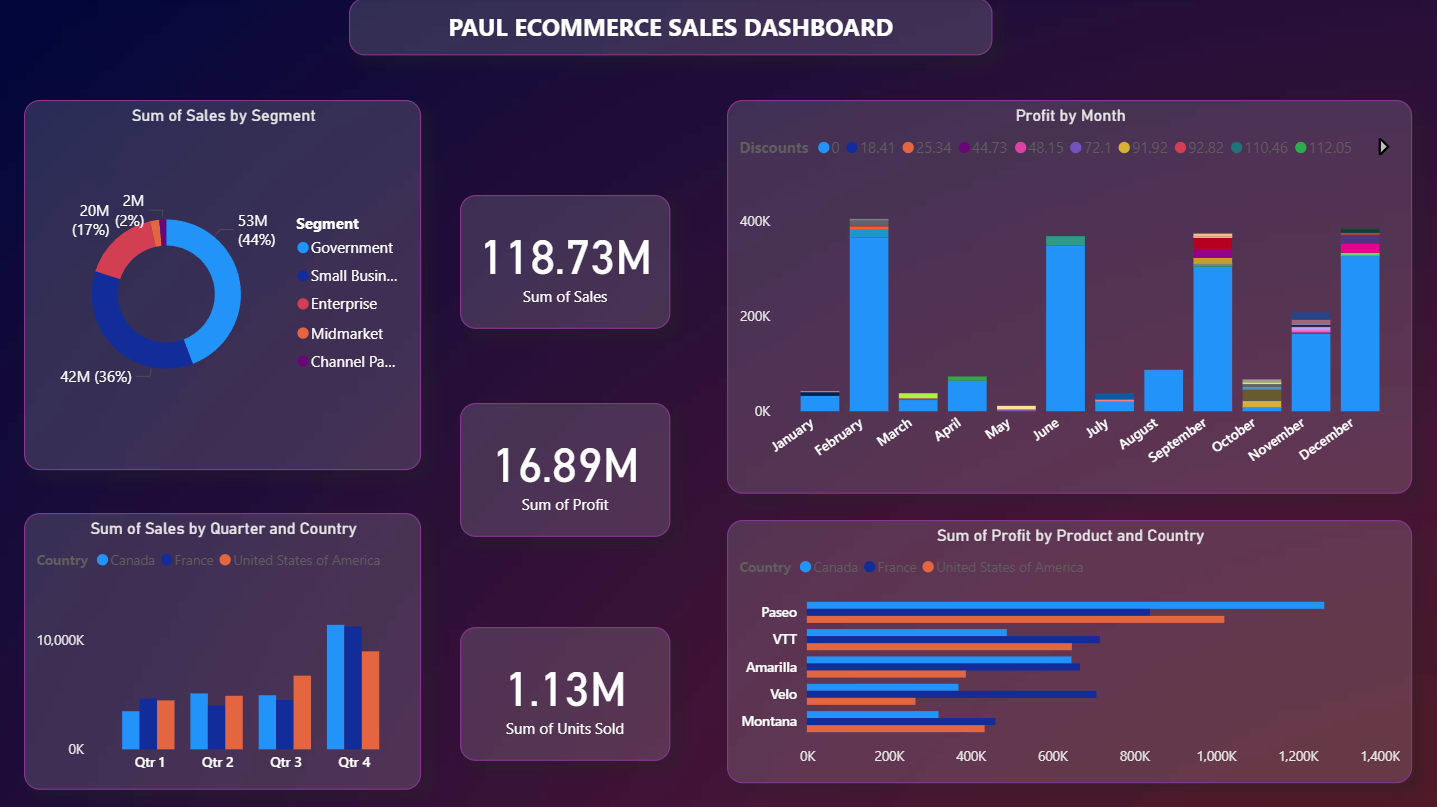

Layout of this report page (visuals, bound fields, positions):
{"tool":"powerbi","page":{"name":"Page 1","canvas":[1280,720],"ordinal":0},"visuals":[{"type":"textbox","box":[311,0,572,51],"z":0},{"type":"columnChart","title":"Profit by Month","fields":{"Category":["financials.Date.Variation.Date Hierarchy.Month"],"Y":["financials.Profit"],"Series":["financials.Discounts"]},"box":[647,91,609,350],"z":1000},{"type":"clusteredBarChart","fields":{"Category":["financials.Product"],"Y":["financials.Profit","select"],"Series":["financials.Country"]},"box":[647,464,609,234],"z":2000},{"type":"donutChart","fields":{"Category":["financials.Segment"],"Y":["financials.Sales"]},"box":[22,91,353,329],"z":3000},{"type":"clusteredColumnChart","fields":{"Category":["financials.Date.Variation.Date Hierarchy.Quarter"],"Y":["financials.Sales"],"Series":["financials.Country"]},"box":[22.4,458.1,353.1,246.1],"z":4000},{"type":"card","fields":{"Values":["financials.Sales"]},"box":[410,175,187,119],"z":5000},{"type":"card","fields":{"Values":["financials.Profit"]},"box":[410,360,187,119],"z":6000},{"type":"card","fields":{"Values":["financials.Units Sold"]},"box":[410,559,187,119],"z":7000}]}

Visuals, with their boxes in screenshot pixels (x1, y1, x2, y2), scaled from the page's 1280x720 canvas onto the 1437x807 screenshot:
textbox: bbox=(349, 0, 991, 57)
"Profit by Month" columnChart: bbox=(726, 102, 1410, 494)
clusteredBarChart - financials.Product x financials.Profit: bbox=(726, 520, 1410, 782)
donutChart - financials.Segment x financials.Sales: bbox=(25, 102, 421, 471)
clusteredColumnChart - financials.Date.Variation.Date Hierarchy.Quarter x financials.Sales: bbox=(25, 513, 422, 789)
card - financials.Sales: bbox=(460, 196, 670, 330)
card - financials.Profit: bbox=(460, 404, 670, 537)
card - financials.Units Sold: bbox=(460, 627, 670, 760)
